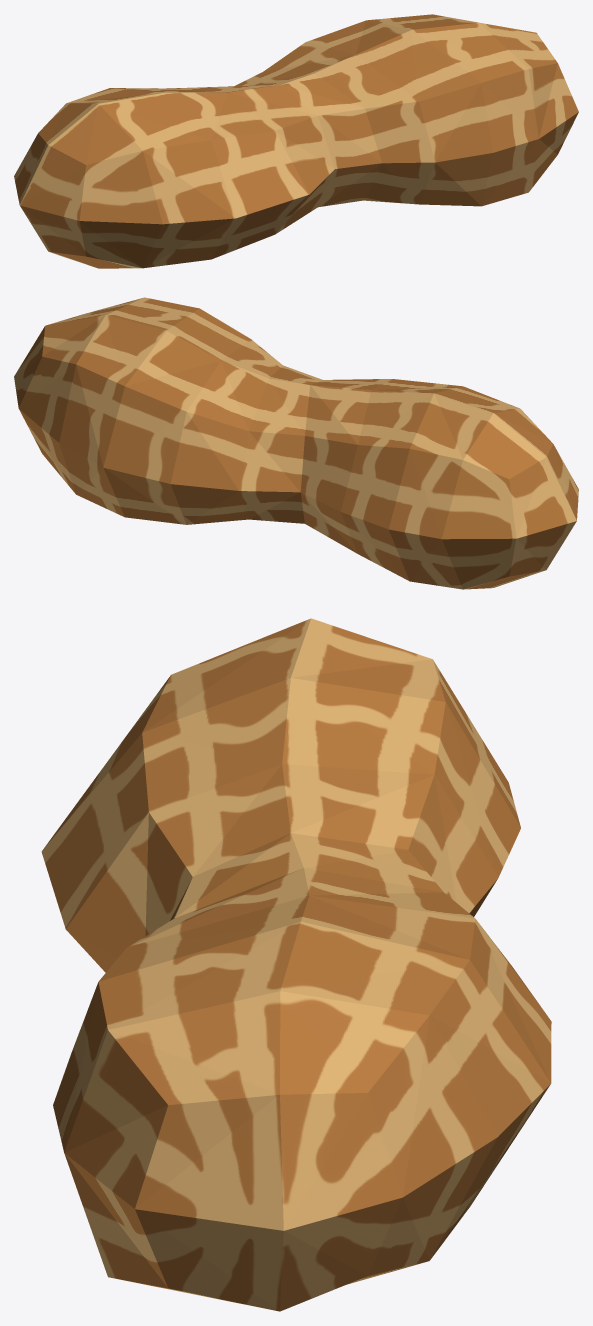
Rendered from peanut.obj.
3 renders of one model, top to bottom at view 1: azimuth 30°, elevation 25°; view 2: azimuth 150°, elevation 25°; view 3: azimuth 270°, elevation 25°, orthographic. The views are drawn at different scales.
Size of the model in its own units: 3.41 by 1 by 1.4.
Materials: 1 (1 with a texture image).
